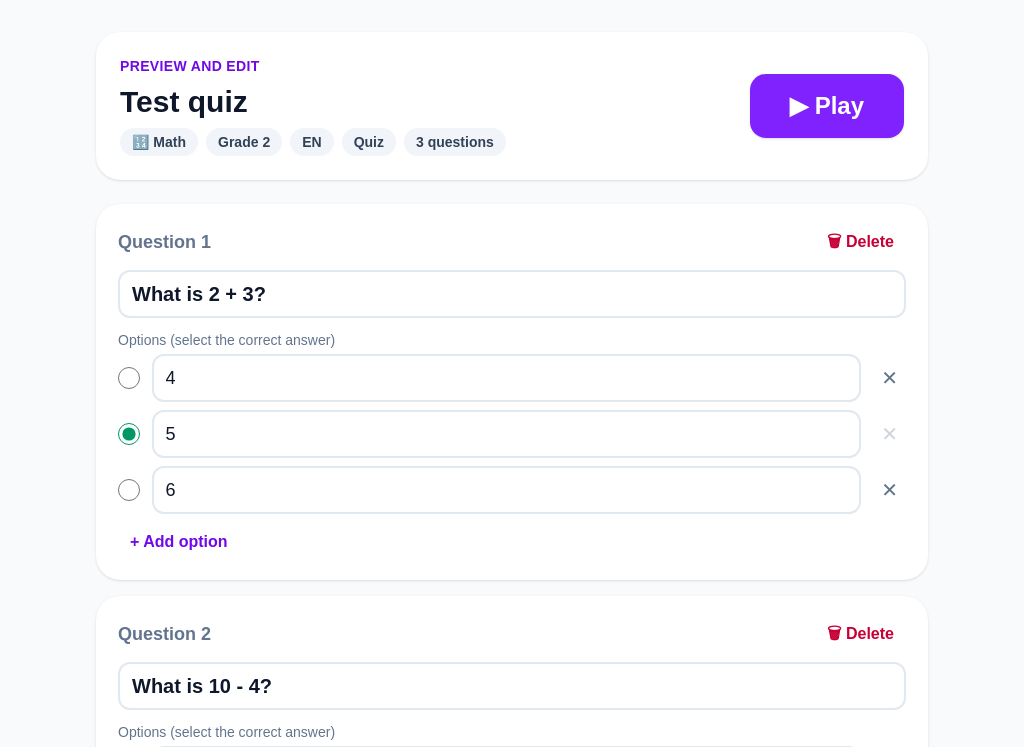
Test: GameFlow › can go back from team setup to the preview
Click the button "▶ Play": (827, 106) [750,74,904,138]
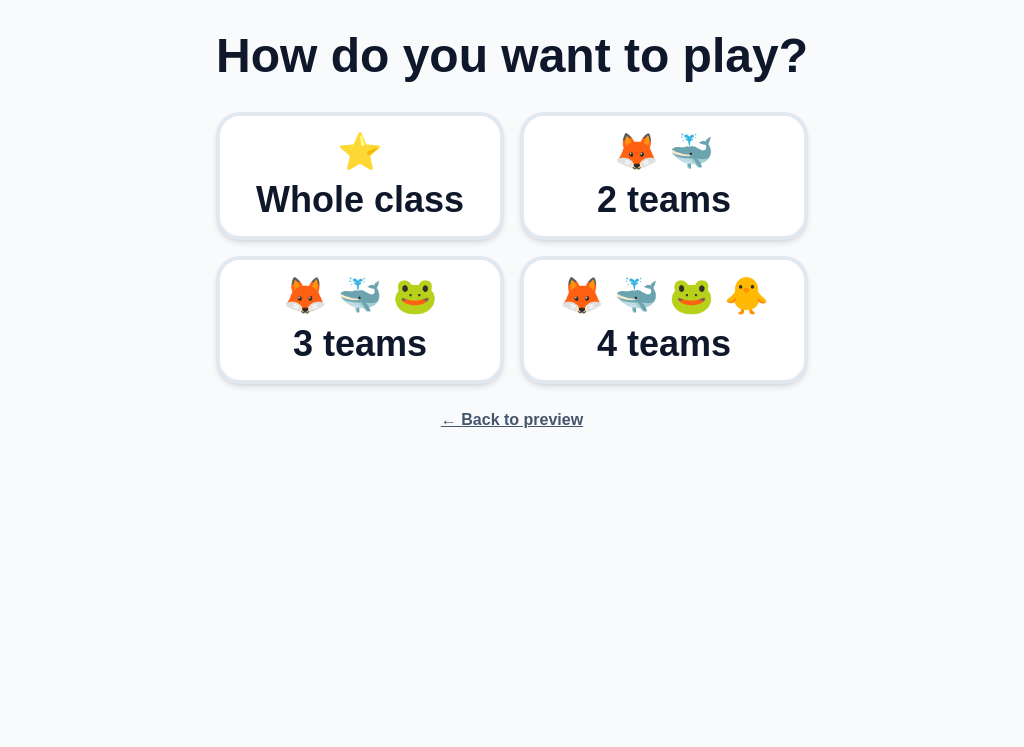
Click the button "← Back to preview": (512, 420) [441,408,583,432]
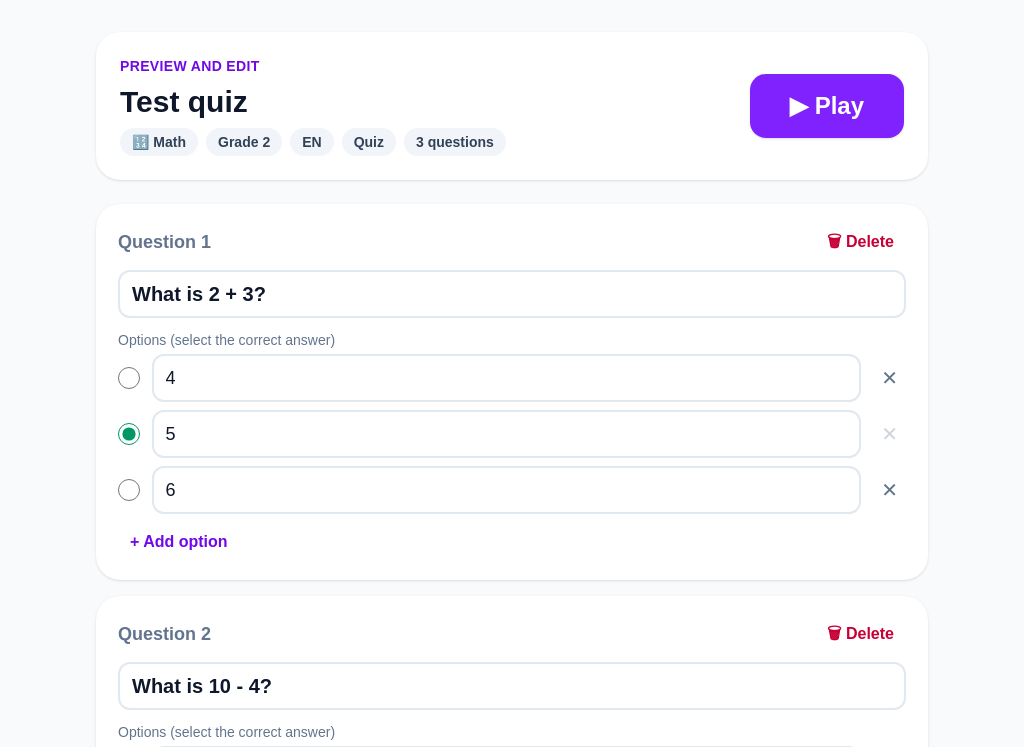
Expected: the text box named "Question 1 text" is shown, [118,270,906,318]
